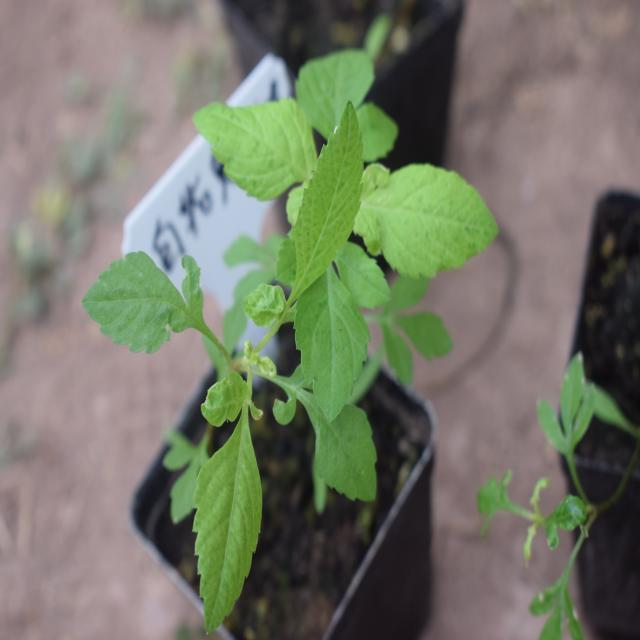Bidens pilosa: (113, 124, 394, 582)
